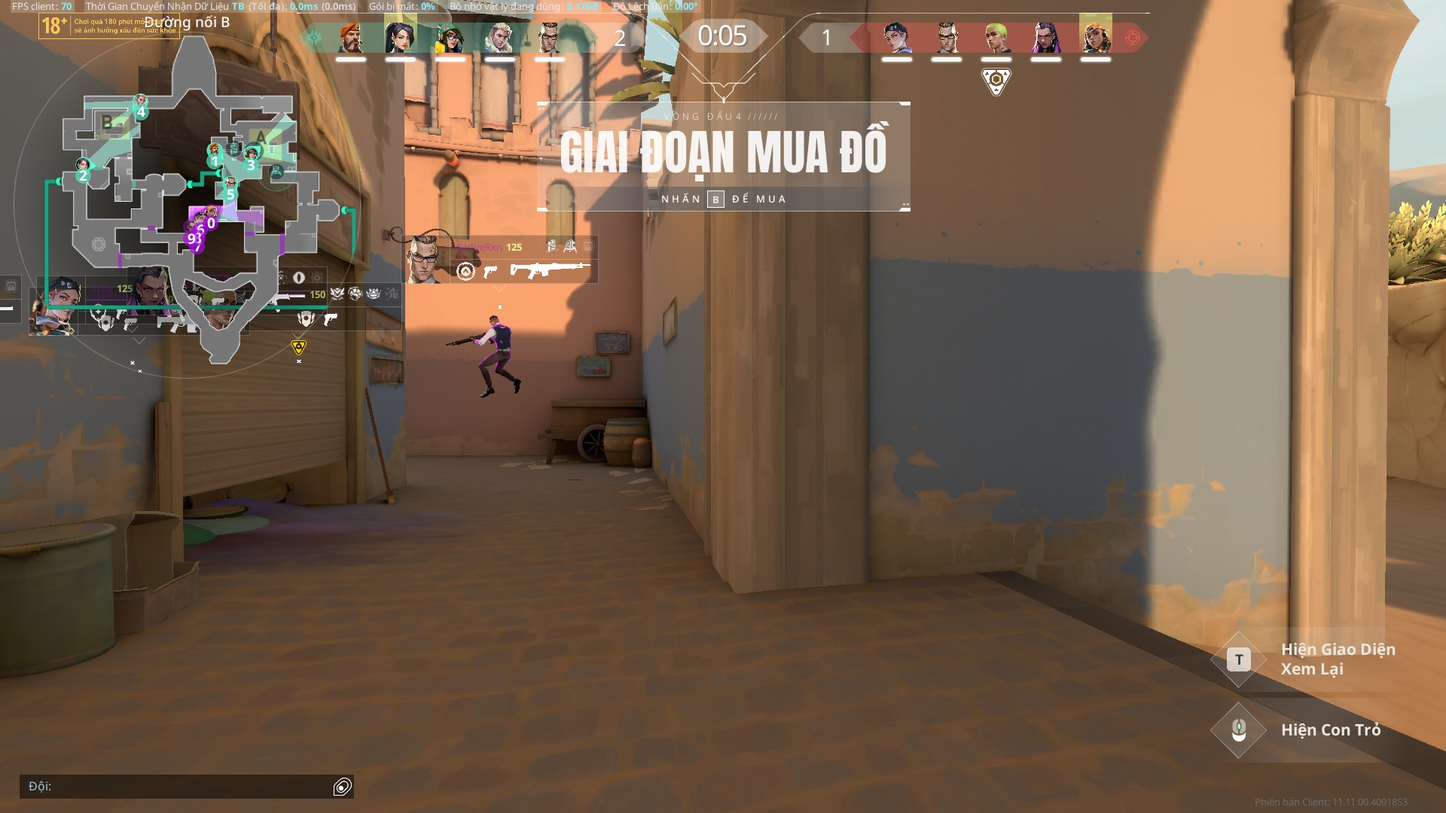body: (491, 322, 513, 350)
head: (488, 315, 502, 326)
